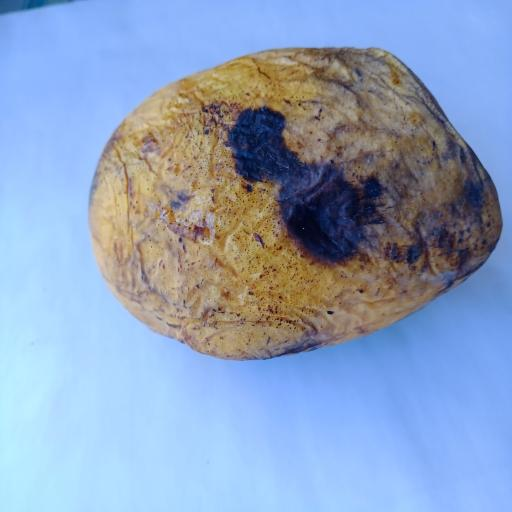mango-overripe: (86, 27, 508, 381)
